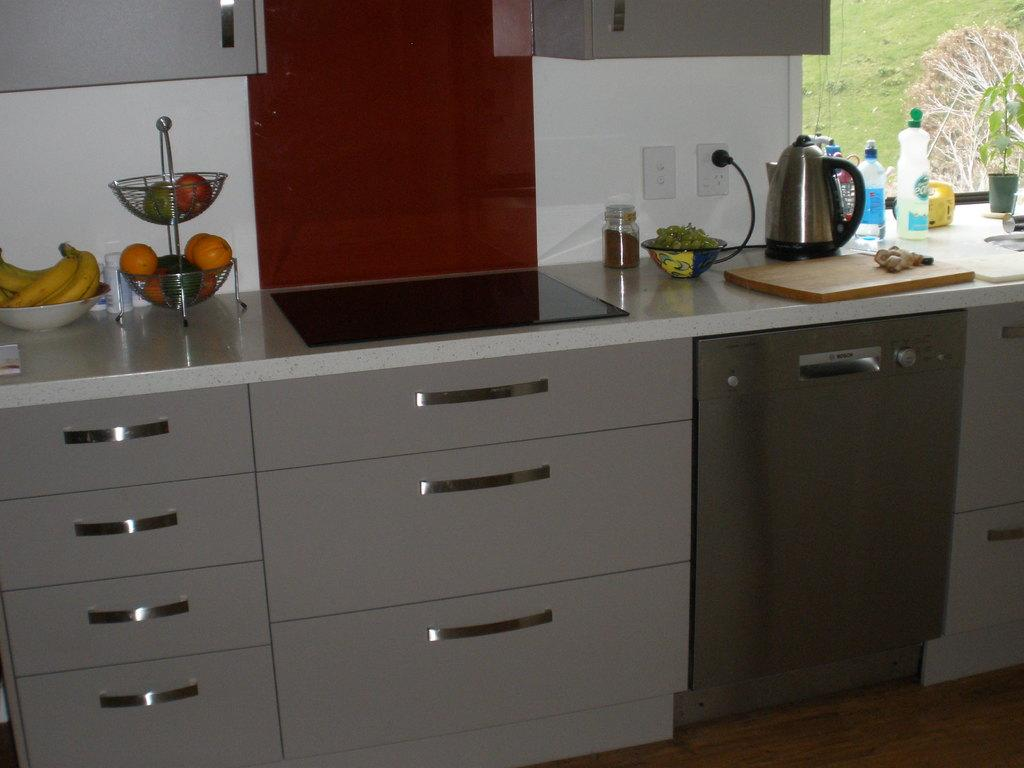cabinet_door: (274, 472, 688, 570), (294, 600, 692, 698), (36, 660, 270, 762), (255, 380, 684, 429), (12, 578, 266, 650), (0, 8, 270, 70), (13, 494, 257, 560), (11, 410, 251, 474), (969, 316, 1024, 503), (598, 1, 820, 42), (963, 510, 1024, 605)
handle: (414, 468, 550, 499), (411, 378, 551, 408), (422, 614, 558, 644), (72, 502, 182, 536), (102, 678, 200, 714), (60, 424, 171, 445), (90, 605, 192, 626), (987, 522, 1024, 548), (218, 7, 236, 54), (996, 322, 1024, 340), (610, 4, 622, 36)
